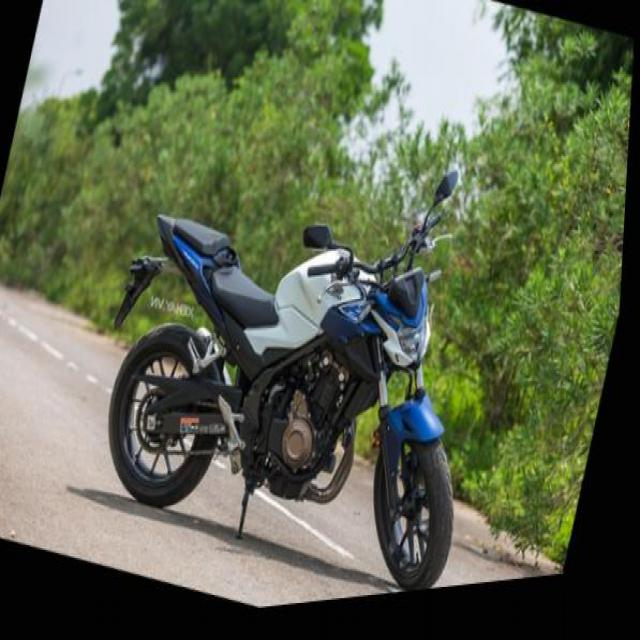CB500F: (84, 166, 516, 628)
